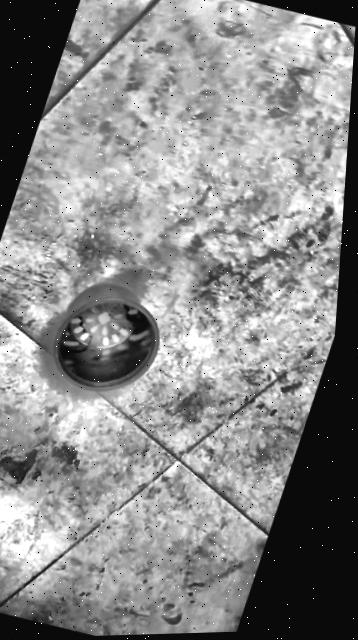pot: (38, 274, 174, 405)
